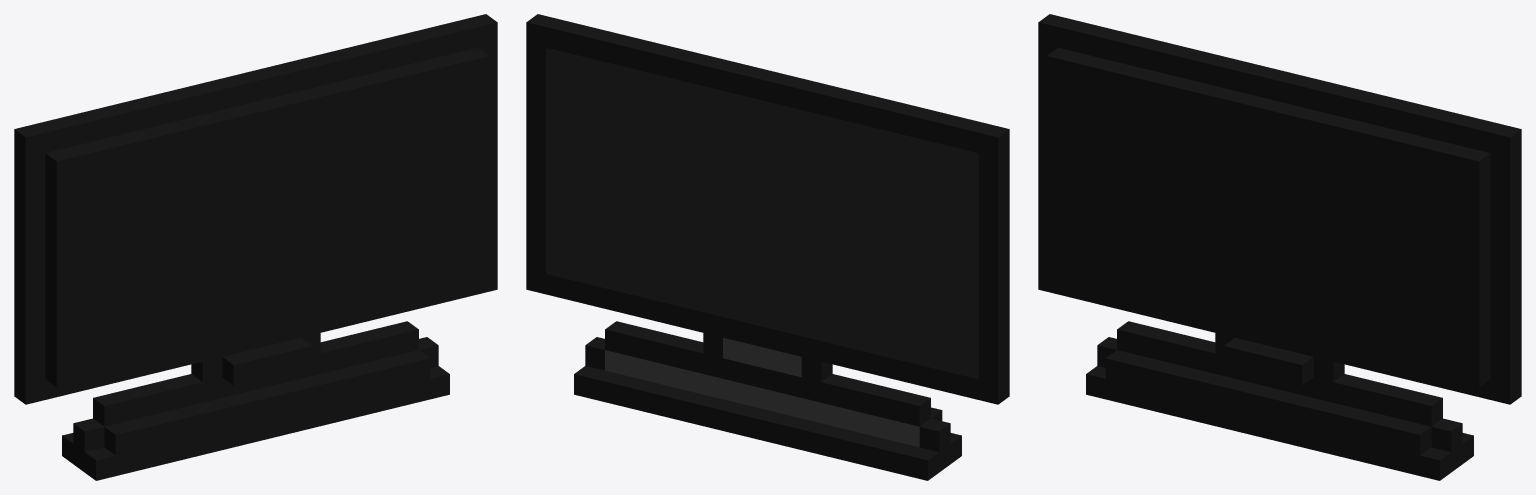
Rendered from Tele(noir).obj.
The picture shows the model from 3 angles, left to right: view 1: azimuth 30°, elevation 25°; view 2: azimuth 150°, elevation 25°; view 3: azimuth 330°, elevation 25°; orthographic projection.
Bounding box in the file's own units: 2.4 × 1.7 × 0.3.
1 material, 1 textured.
